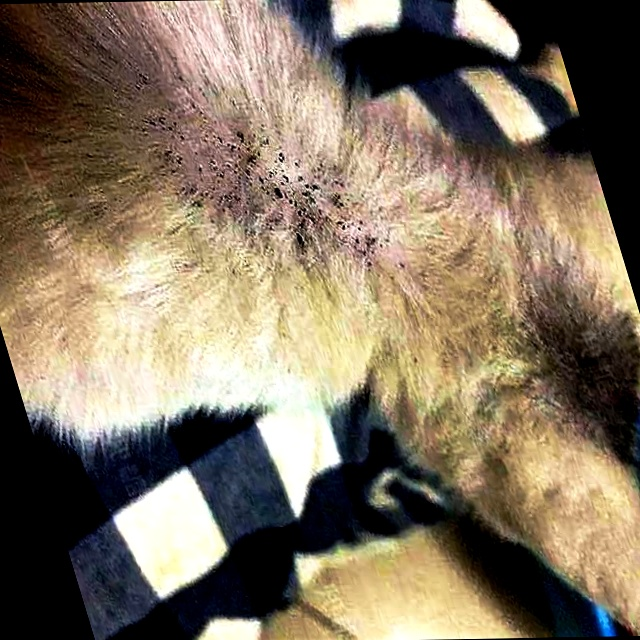acne: (129, 103, 400, 282)
